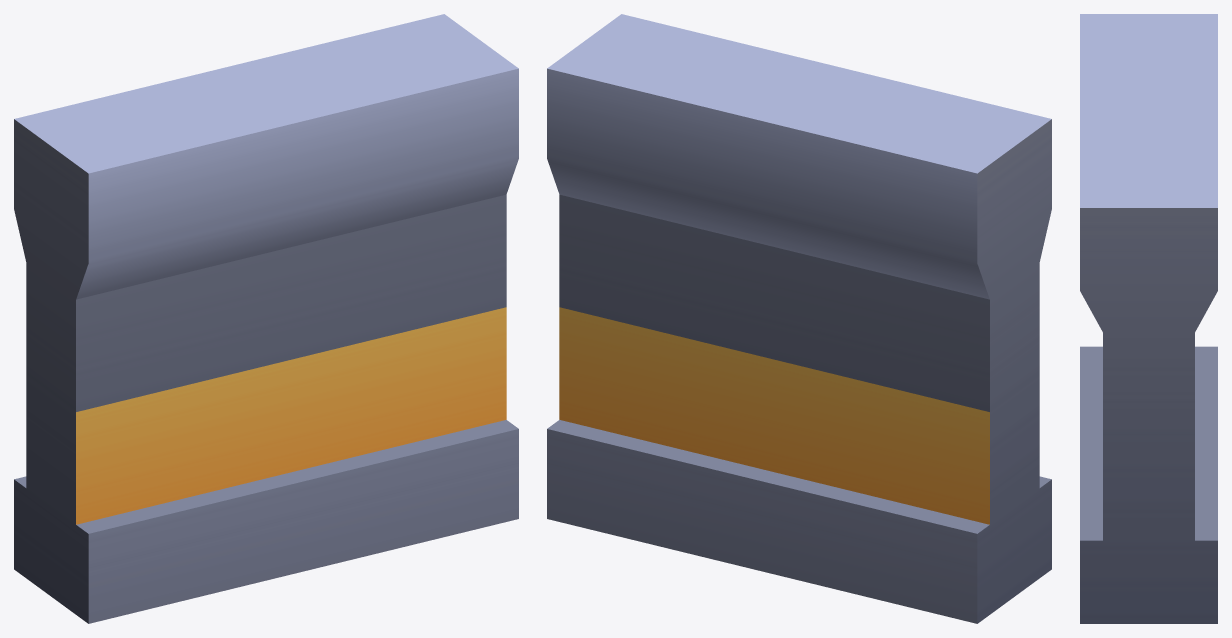
Rendered from wall-banner.obj.
3 views of the same model, side by side, from view 1: azimuth 30°, elevation 25°; view 2: azimuth 150°, elevation 25°; view 3: azimuth 270°, elevation 25° (orthographic). The views are drawn at different scales.
Visible parts, largest first — view 1: wall-banner; view 2: wall-banner; view 3: wall-banner.
Part boxes in pixels (x1=…): wall-banner: x1=14, y1=14, x2=518, y2=623; wall-banner: x1=547, y1=14, x2=1051, y2=623; wall-banner: x1=1080, y1=14, x2=1217, y2=623.
Size of the model in its own units: 1 by 1 by 0.3.
Materials: 1 (1 with a texture image).
